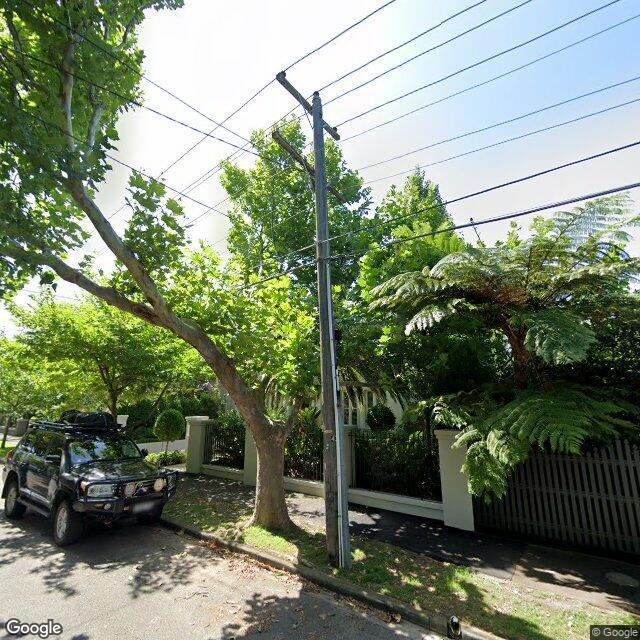HV-transmission: (278, 70, 338, 132)
crossarm: (272, 131, 346, 204), (276, 74, 341, 141)
timber-pole: (312, 95, 350, 570)
